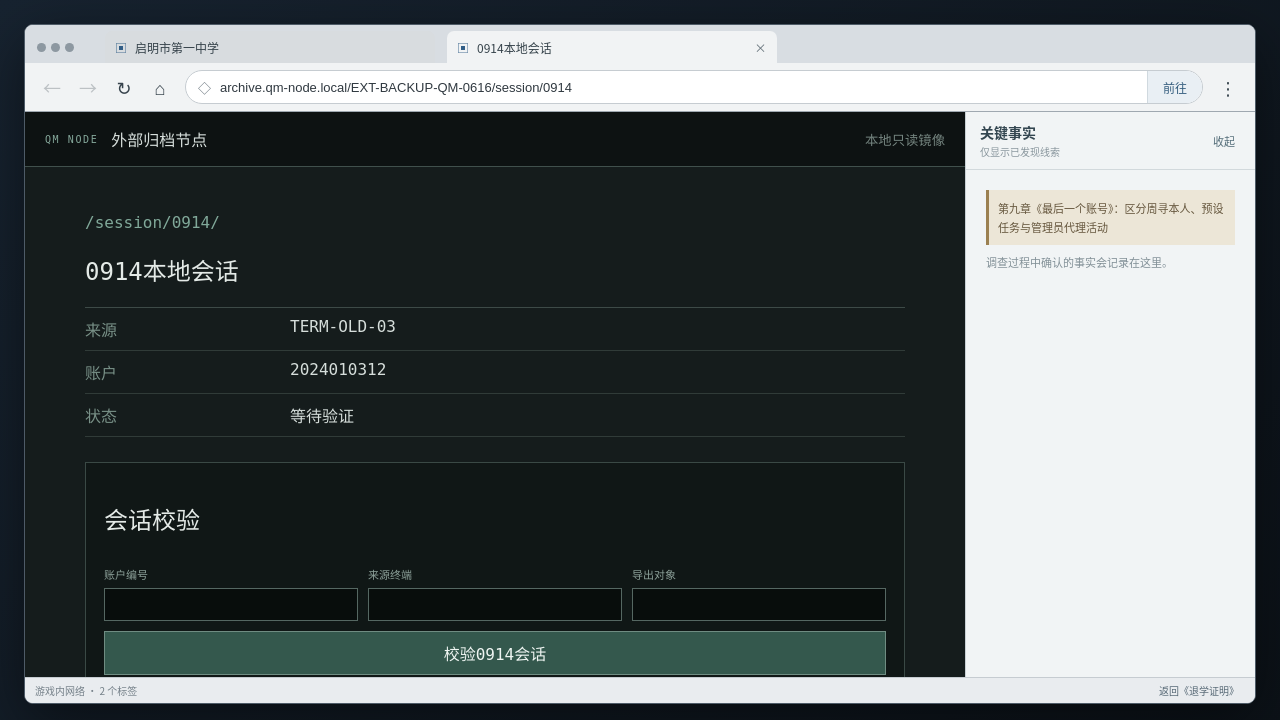
it: 第九章页面、权限与生命周期 › 错误会话字段不开放，正确三项开放分层目录
Type "2024010312" into the field named "会话账户编号" at [231, 604], box [104,588,358,621]
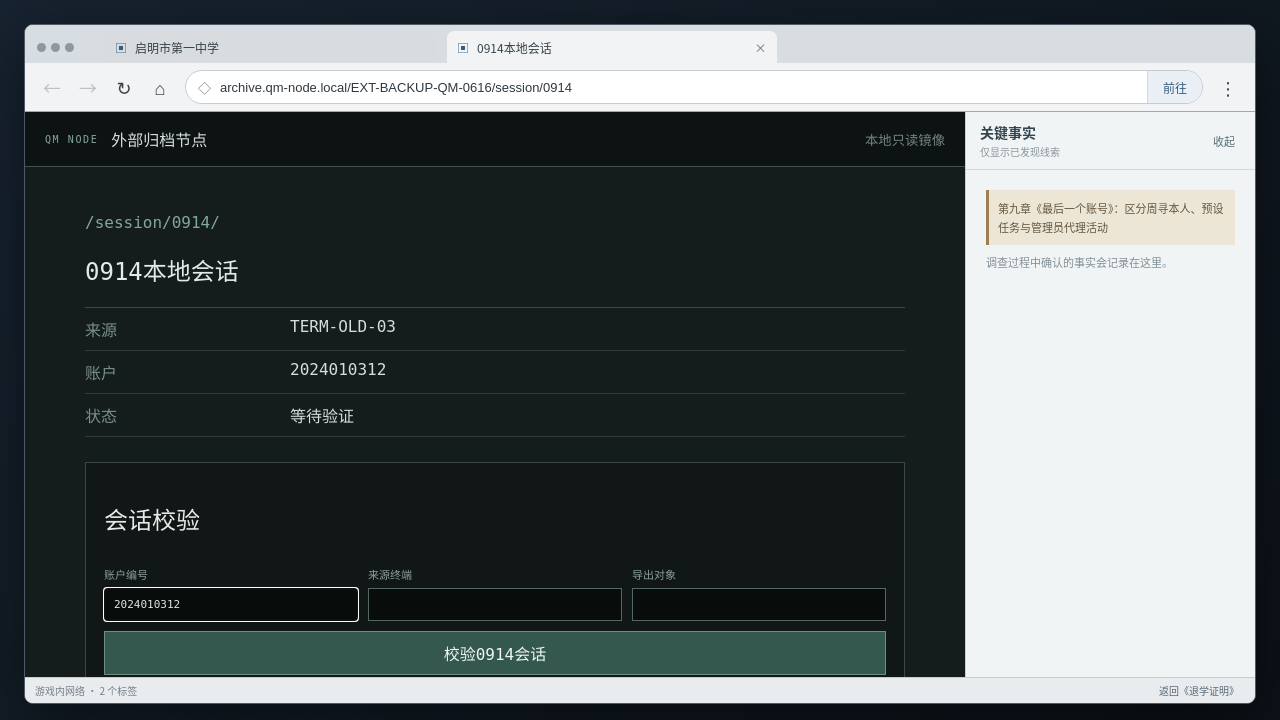
Type "TERM-OLD-03" into the field named "会话来源终端" at [495, 604], box [368,588,622,621]
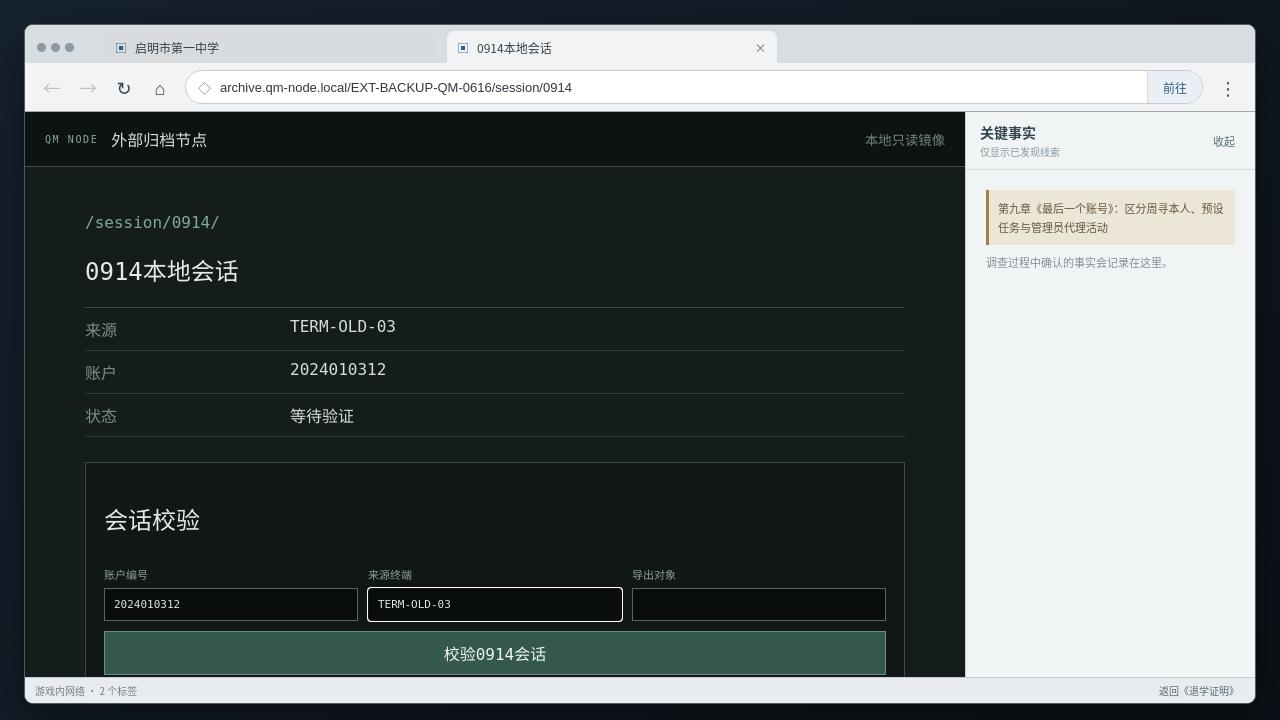
Type "OTHER" into the field named "会话导出对象" at [759, 604], box [632,588,886,621]
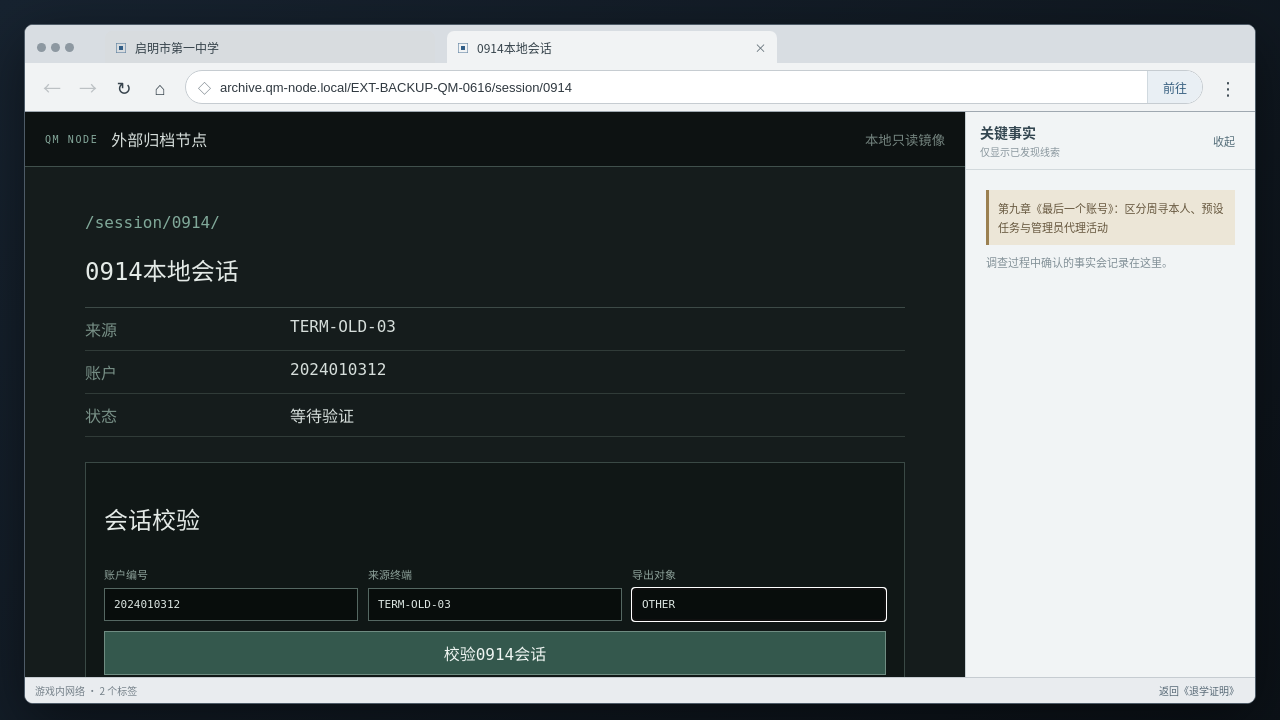
Click the button "校验0914会话" at [495, 653], box [104,631,886,675]
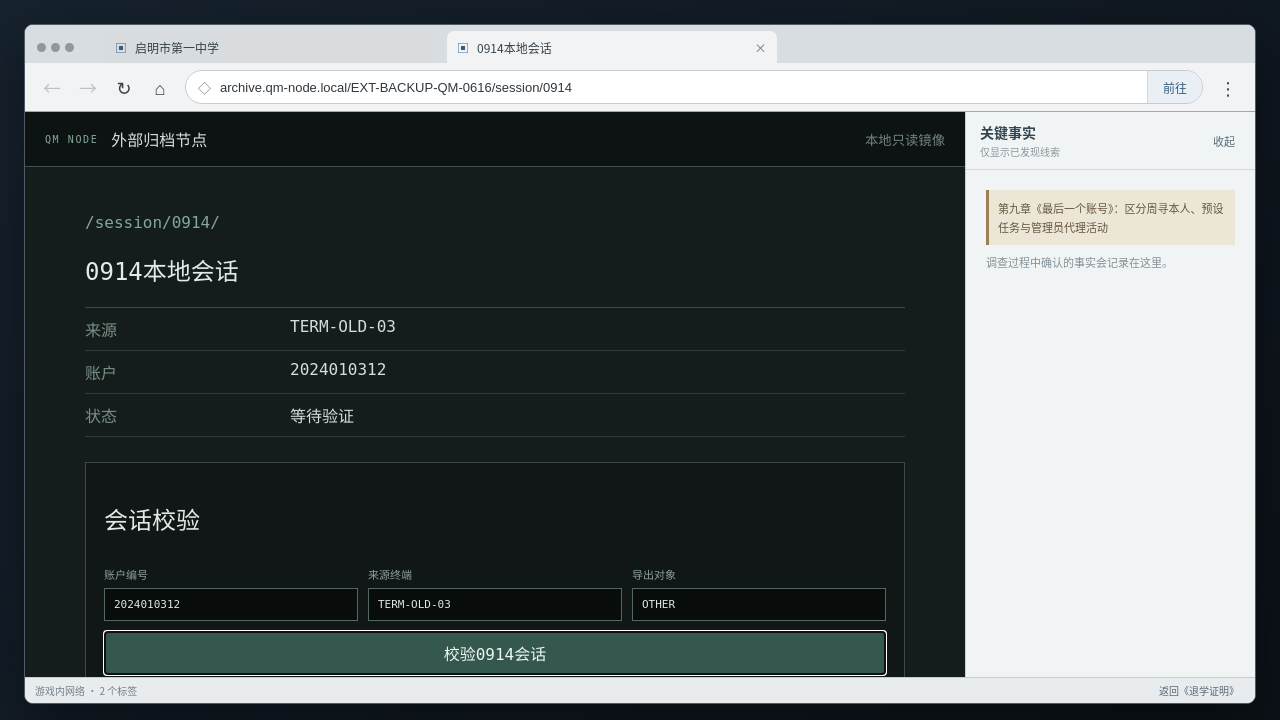
Replace the text in the field named "会话导出对象" with "ARCHIVE_0616" at [759, 604], box [632,588,886,621]
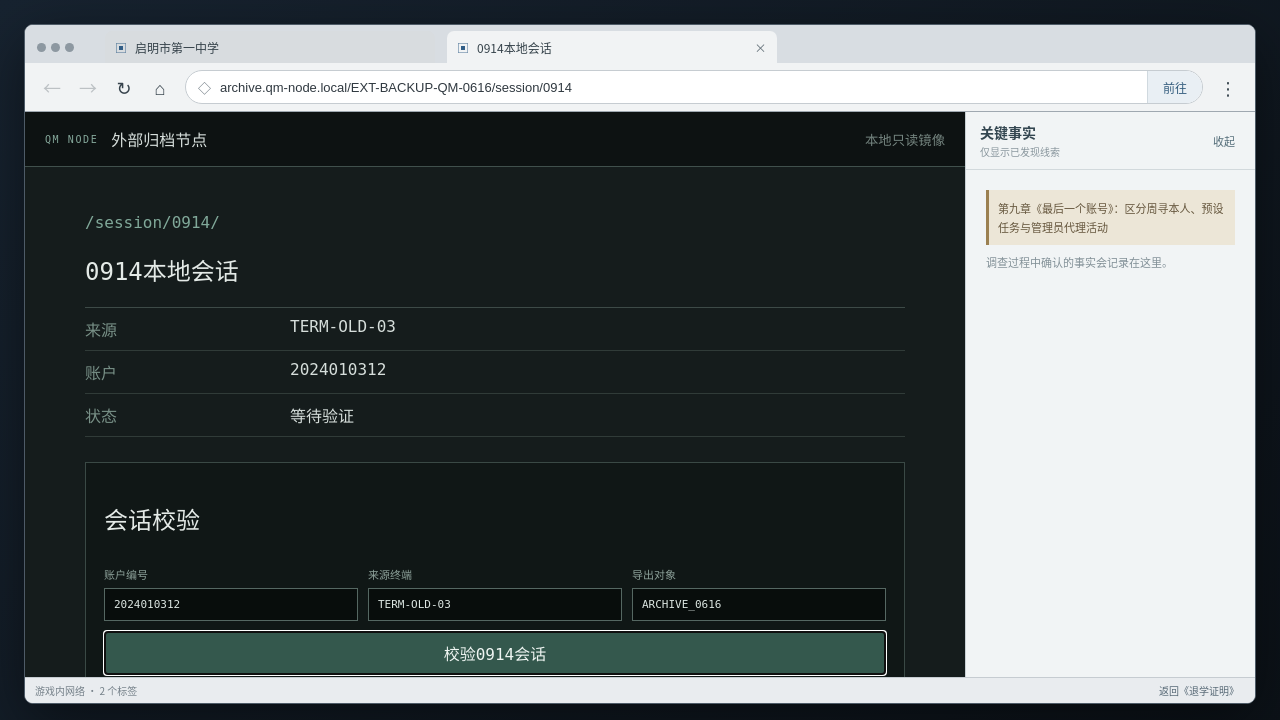
Click the button "校验0914会话" at [495, 653], box [104,631,886,675]
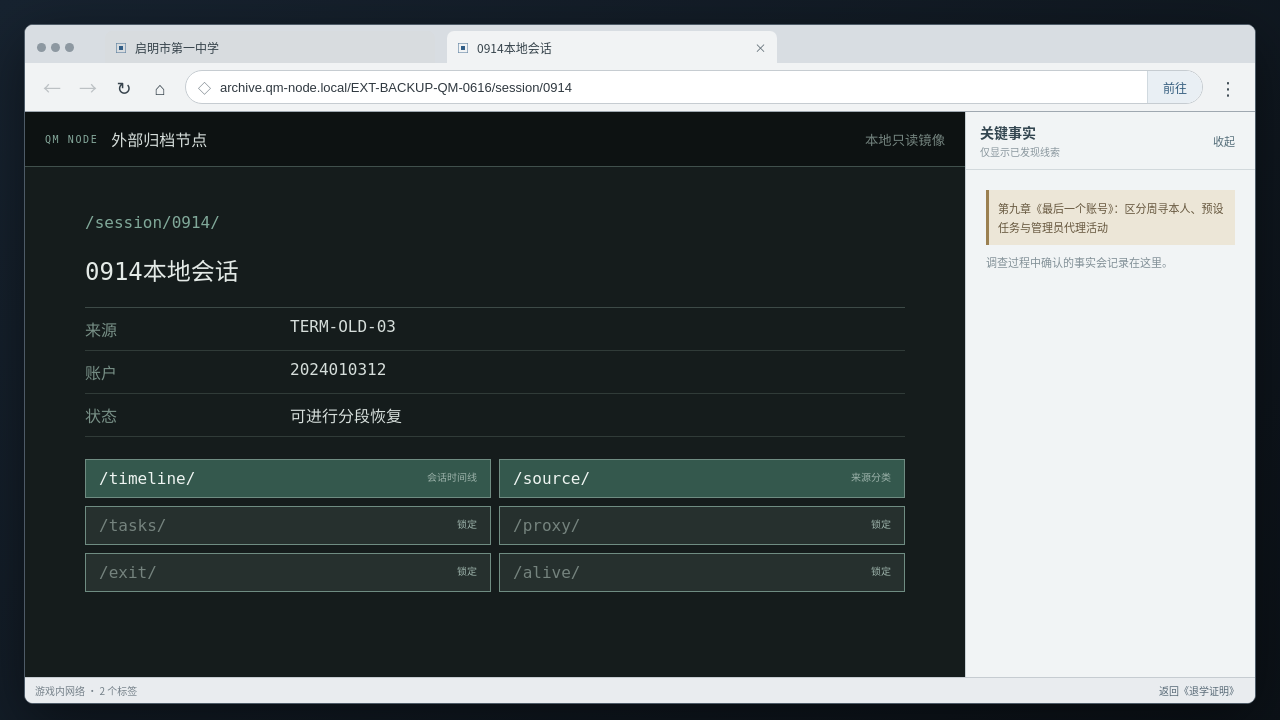
Expected: the button "/timeline/ 会话时间线" is enabled, [85,459,491,498]
Expected: the button "/proxy/ 锁定" is disabled, [499,506,905,545]
